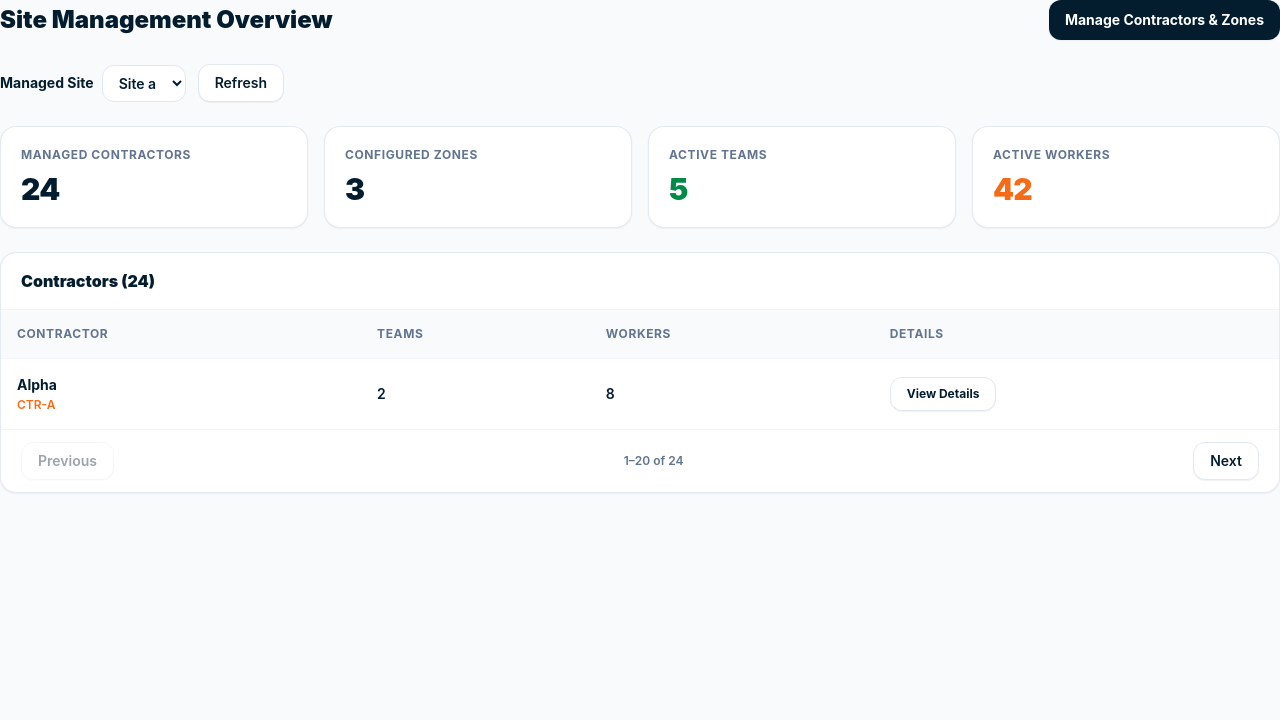
Test: manager Dashboard displays API counts, scopes Sites and opens dated contractor/team/Zone details
Expected: the text "24" is shown, [21,171,60,207]
Expected: the text "3" is shown, [345,171,364,207]
Click the button "Next" at (1226, 461), box [1193,442,1259,480]
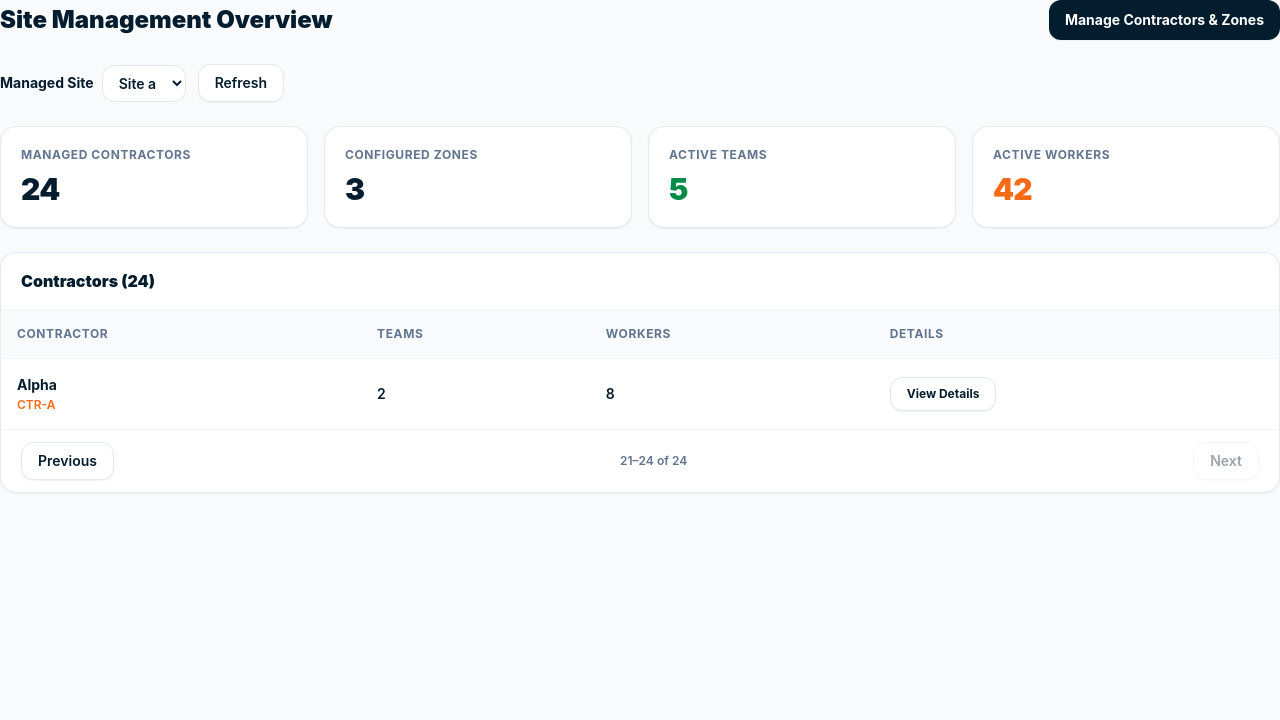
Click the button with aria-label "View details for Alpha" at (943, 394), box [890,377,996,411]
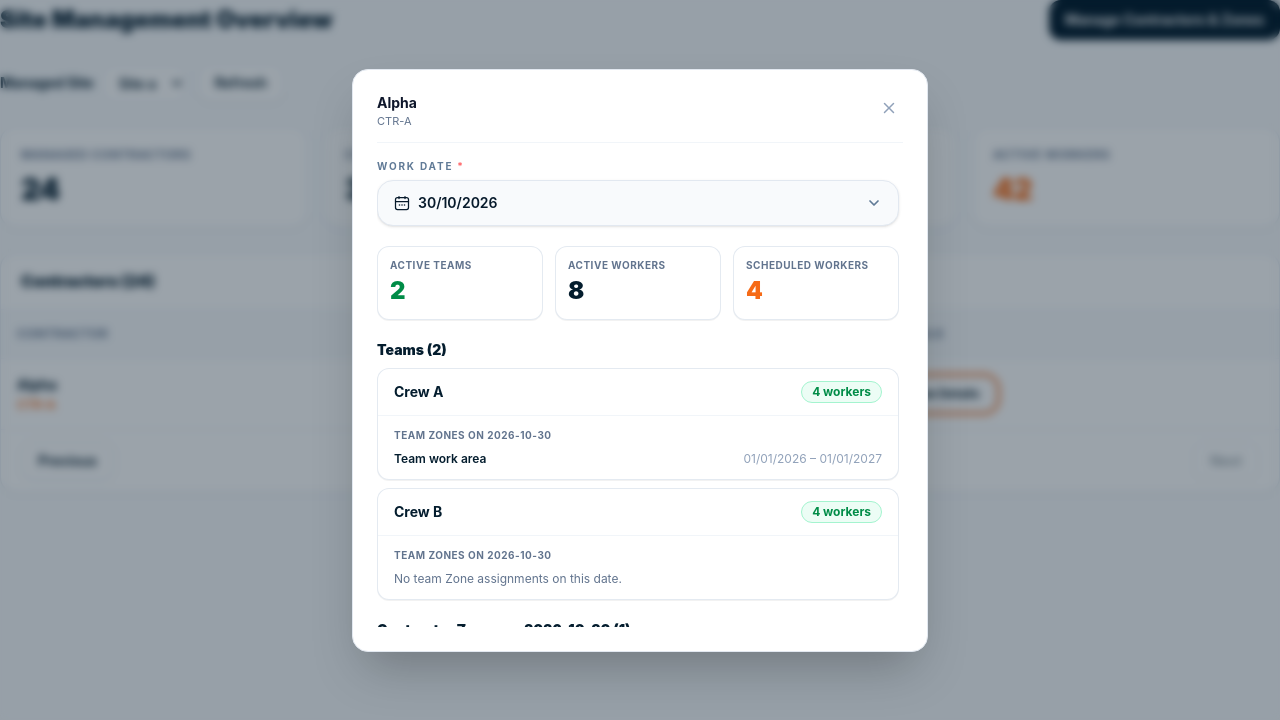
Expected: the text "Team work area" is shown, [394,451,486,467]
Expected: the text "01/01/2026 – 01/01/2027" is shown 2 times
Expected: the text "No team Zone assignments on this date." is shown, [394,571,622,586]
Click the button named "Work date" at (458, 202), box [377,180,899,226]
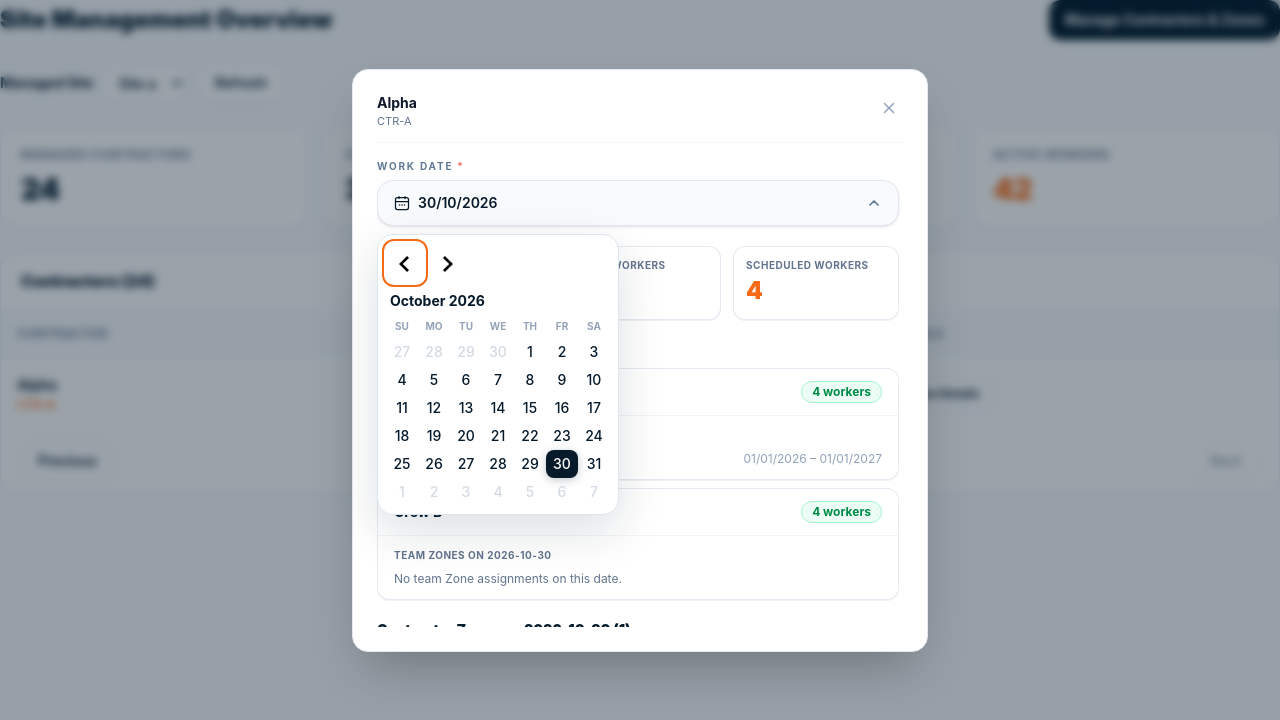
Click the 1st button "1" at (530, 352), box [514,338,546,366]
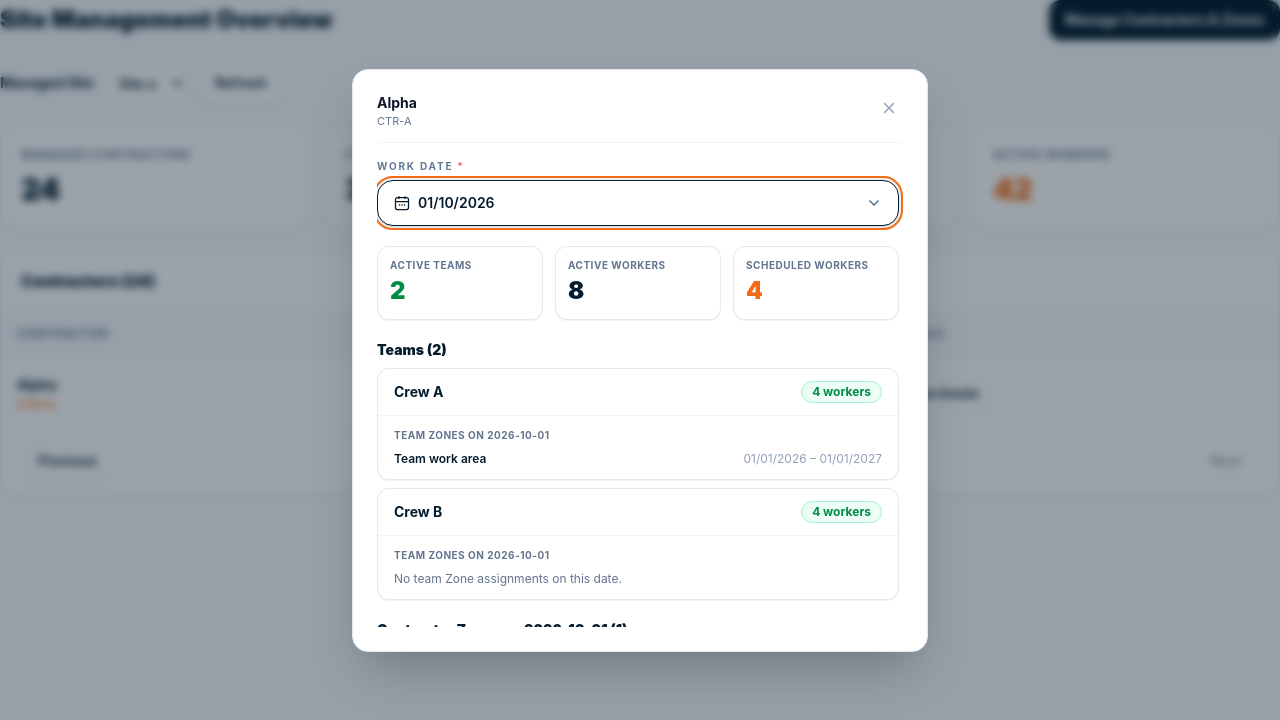
Click the button named "Close dialog" at (889, 108), box [875,94,903,122]
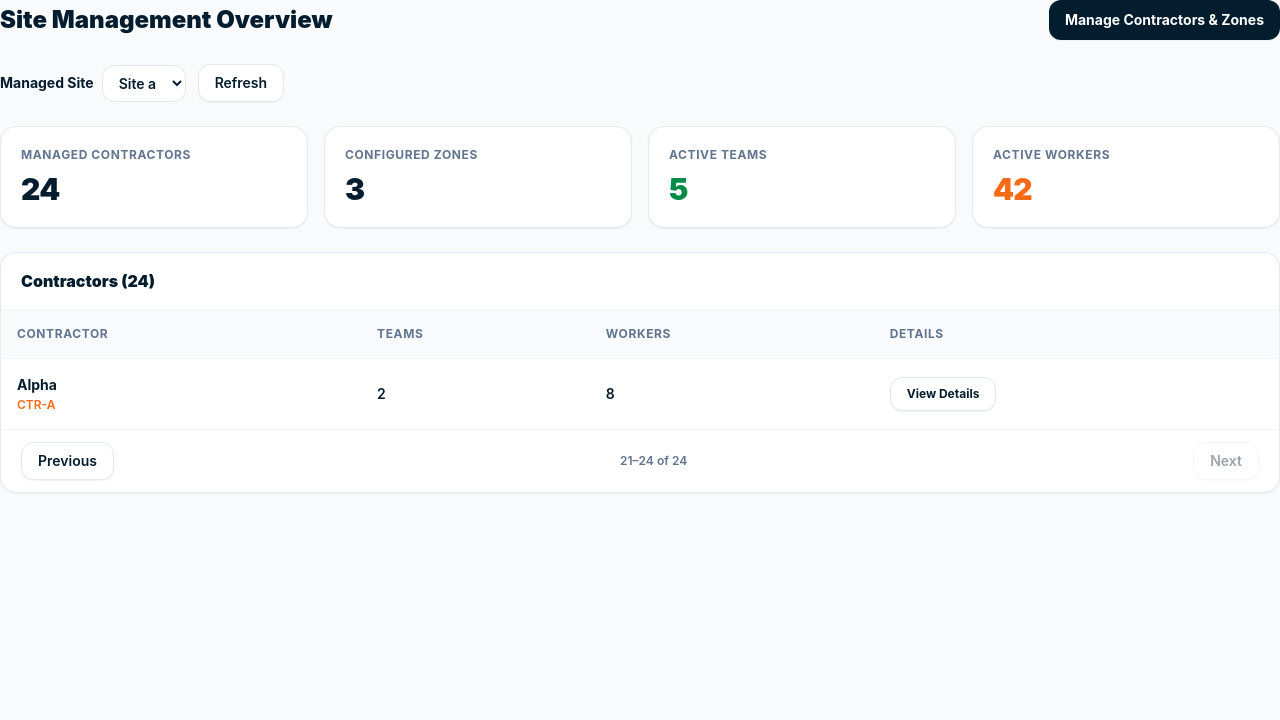
Expected: the dialog is gone
